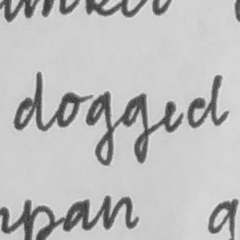d: (185, 73, 230, 130), (10, 69, 46, 134)
e: (161, 98, 183, 135)
g: (84, 89, 116, 168), (119, 91, 152, 167)
o: (54, 90, 80, 131)
